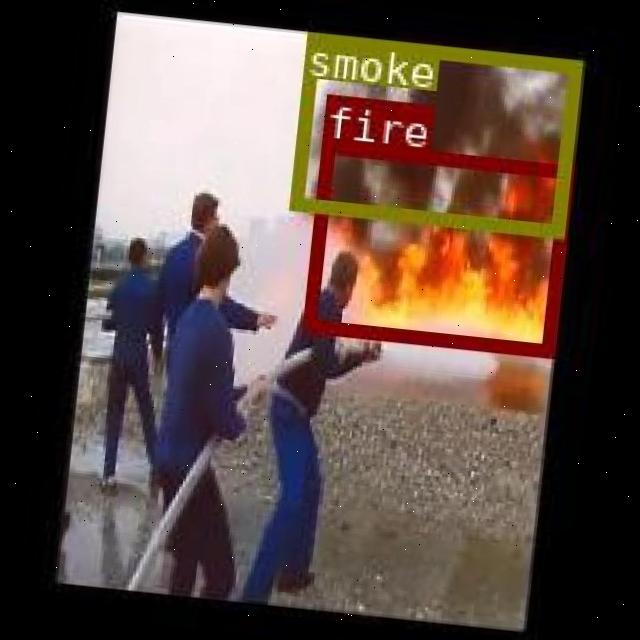fire: (300, 138, 571, 355)
smoke: (286, 31, 580, 235)
